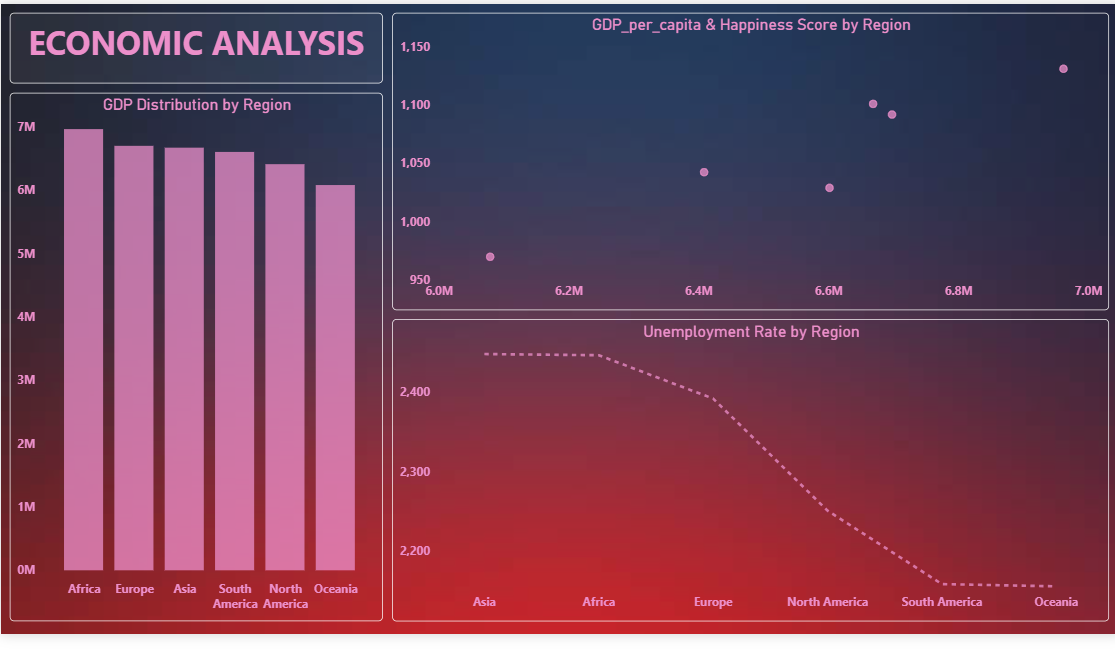

The page's visual inventory and layout, read from the dashboard file:
{"tool":"powerbi","page":{"name":"Economic_Analysis ","canvas":[1280,720],"ordinal":1},"visuals":[{"type":"clusteredColumnChart","title":"GDP Distribution by Region","fields":{"Category":["Social_economic_indicators.Region"],"Y":["Sum(Social_economic_indicators.GDP_per_capita)"]},"box":[9.6,101.5,426.8,603.8],"z":0},{"type":"textbox","box":[9.6,9.6,426.8,81],"z":1000},{"type":"lineChart","title":"Unemployment Rate by Region","fields":{"Y":["Sum(Social_economic_indicators.Unemployment Rate)"],"Category":["Social_economic_indicators.Region"]},"box":[447.3,359.5,819.2,345.8],"z":2000},{"type":"scatterChart","title":"GDP_per_capita & Happiness Score by Region","fields":{"X":["Sum(Social_economic_indicators.GDP_per_capita)"],"Y":["Sum(Social_economic_indicators.Happiness Score)"],"Category":["Social_economic_indicators.Region"]},"box":[447.3,9.6,819.2,340.3],"z":3000}]}

Visuals, with their boxes on the page's 1280x720 design canvas (x1, y1, x2, y2). These are canvas units, not pixel positions in the 1115x655 screenshot, which may show the page scaled, cropped or inside an application window:
"GDP Distribution by Region" clusteredColumnChart: locate(10, 102, 436, 705)
textbox: locate(10, 10, 436, 91)
"Unemployment Rate by Region" lineChart: locate(447, 360, 1266, 705)
"GDP_per_capita & Happiness Score by Region" scatterChart: locate(447, 10, 1266, 350)
